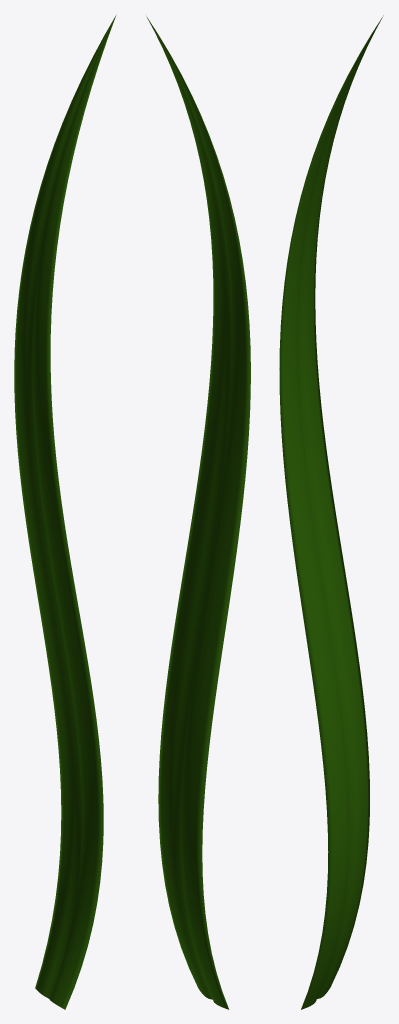
File: loka.fbx
The picture shows the model from 3 angles, left to right: view 1: azimuth 30°, elevation 25°; view 2: azimuth 210°, elevation 25°; view 3: azimuth 330°, elevation 25°; orthographic projection. The views are drawn at different scales.
Visible parts, largest first — view 1: ТраекторияNurbs; view 2: ТраекторияNurbs; view 3: ТраекторияNurbs.
Part boxes in pixels (x1,y1,x2,y2): ТраекторияNurbs: [14, 15, 116, 1009]; ТраекторияNurbs: [146, 16, 250, 1009]; ТраекторияNurbs: [279, 15, 383, 1009].
Bounding box in the file's own units: 38.03 × 401 × 32.95.
